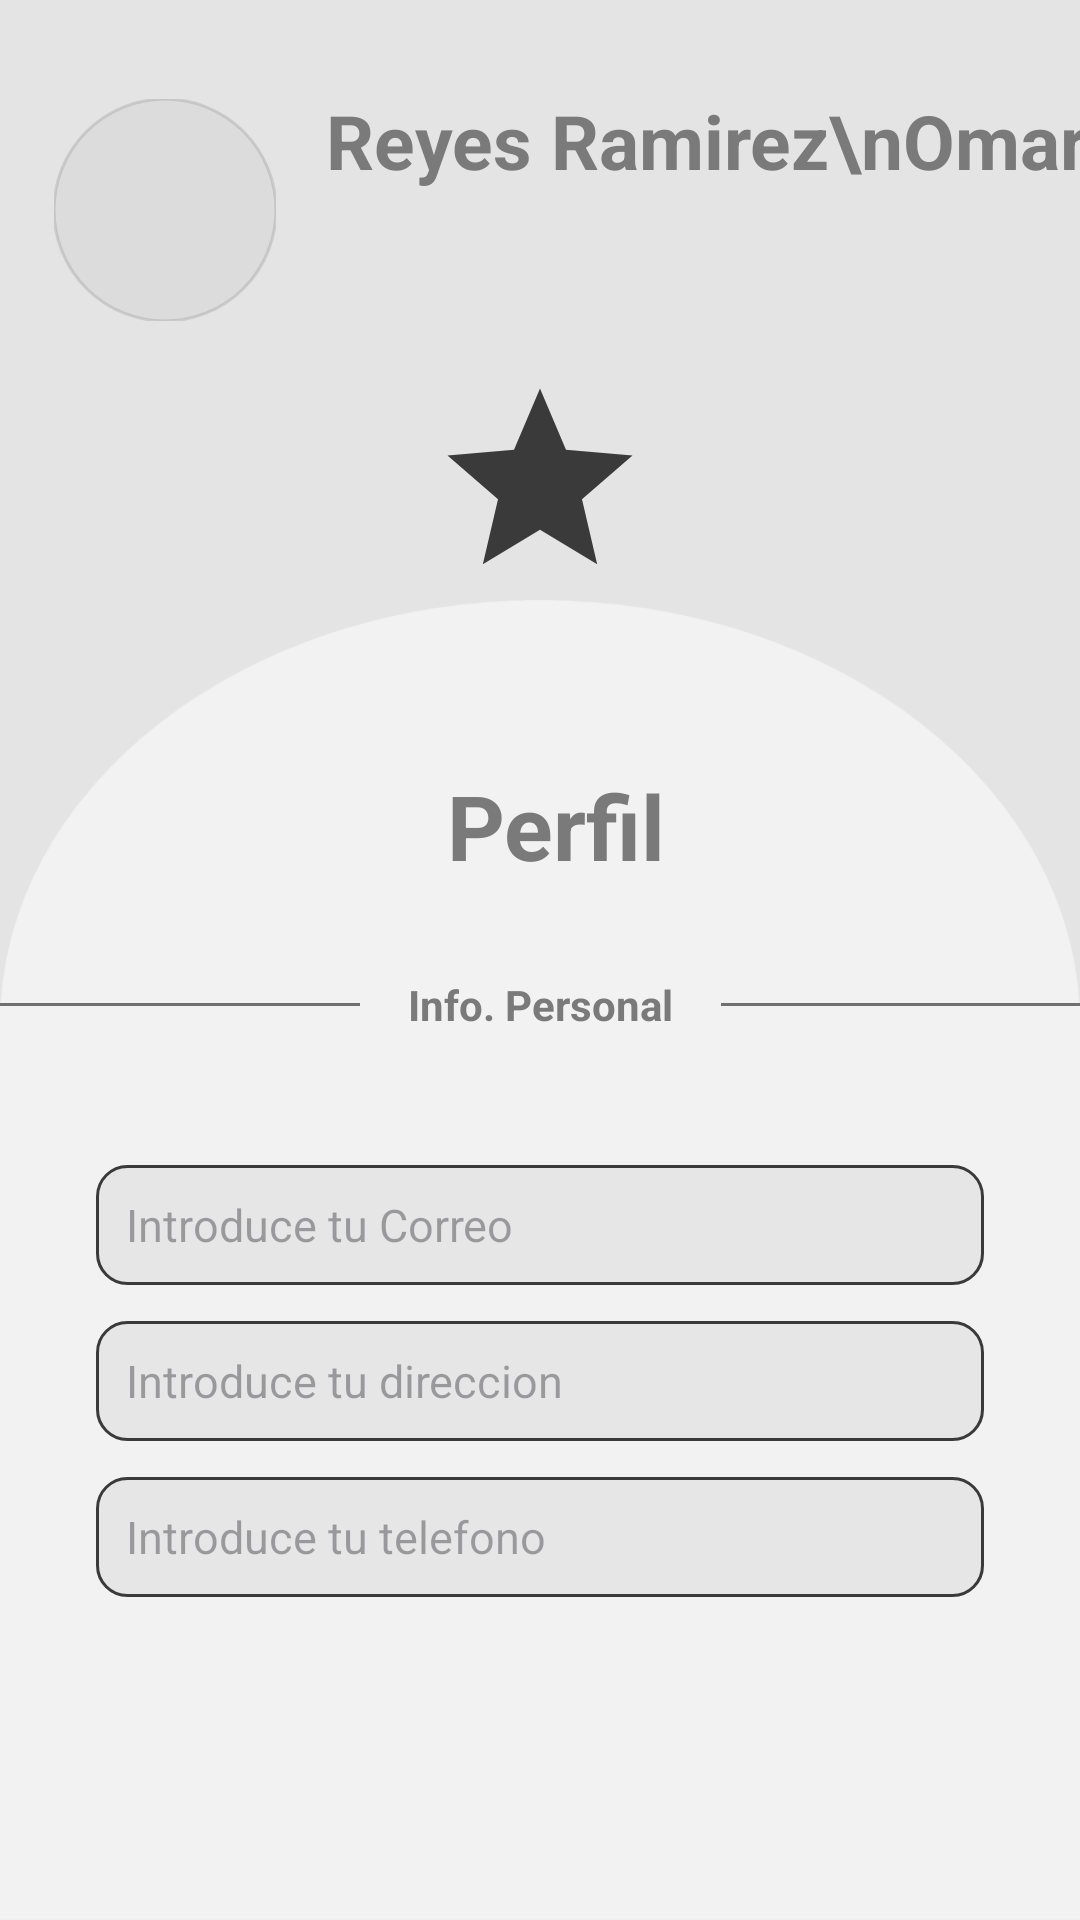

Icon bounding boxes for this 1080x1920 phone screenshot, format (x1, y1, x2, y2):
star: (448, 389, 632, 564)
